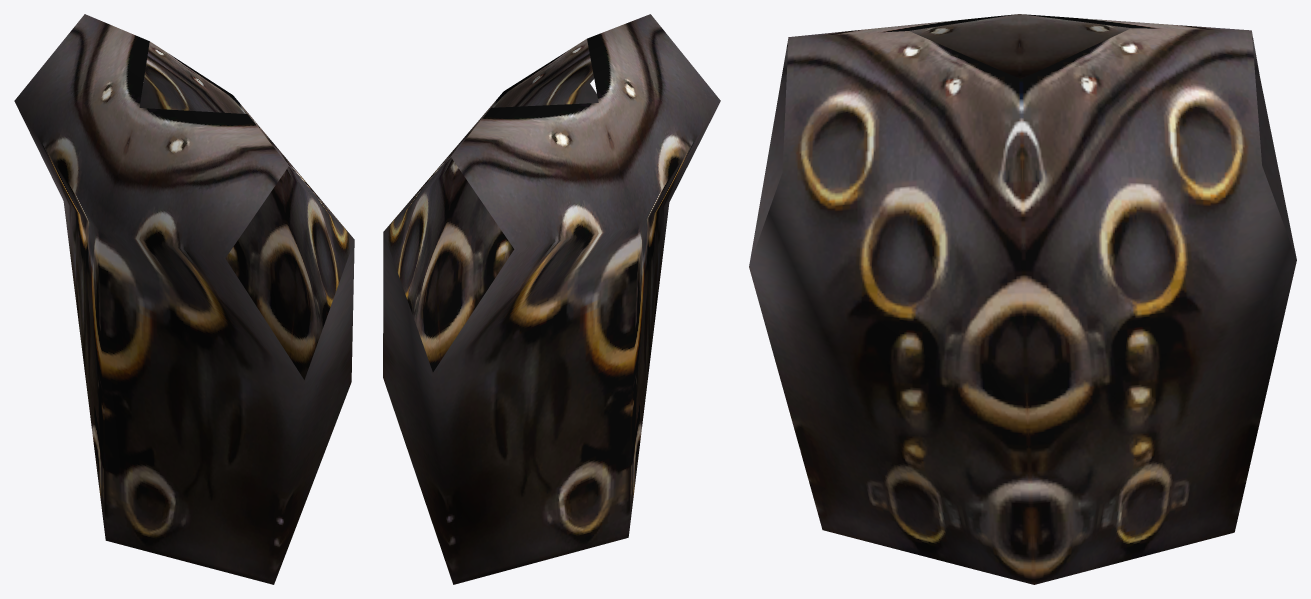
The model's file is armorleathershirtblack.obj.
3 views of the same model, side by side, from view 1: azimuth 30°, elevation 25°; view 2: azimuth 150°, elevation 25°; view 3: azimuth 270°, elevation 25° (orthographic). The views are drawn at different scales.
Parts seen in each view (by area): view 1: armorleathershirtblack; view 2: armorleathershirtblack; view 3: armorleathershirtblack.
Part boxes in pixels (bbox=[...]): armorleathershirtblack: bbox=[14, 14, 354, 584]; armorleathershirtblack: bbox=[383, 14, 720, 584]; armorleathershirtblack: bbox=[749, 14, 1296, 584].
Bounding box in the file's own units: 0.2865 × 0.6098 × 0.5956.
1 material, 1 textured.
